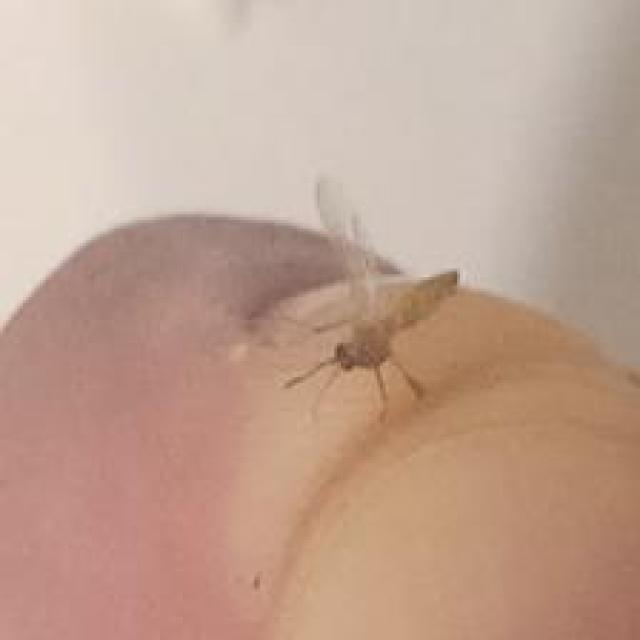Culex: (242, 176, 462, 427)
